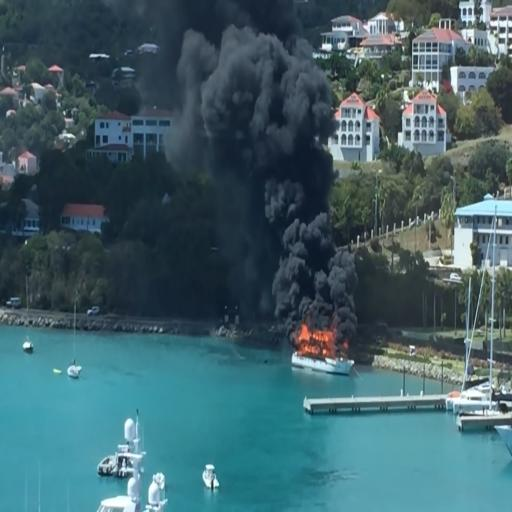smoke: (197, 16, 322, 174), (262, 186, 354, 319)
